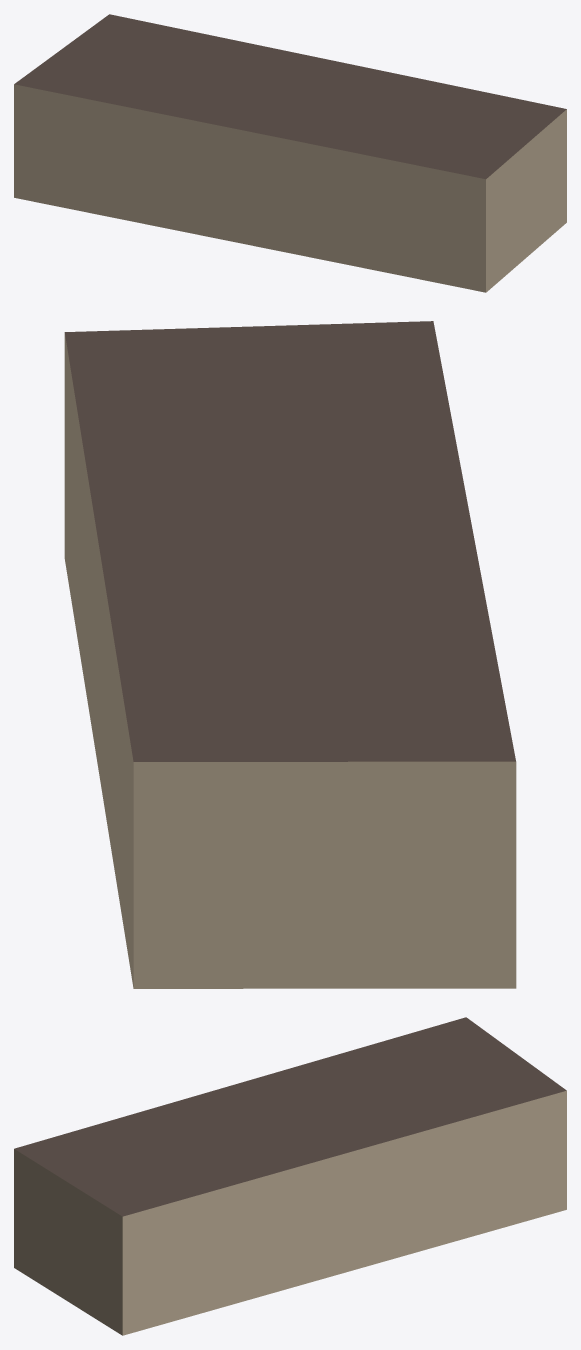
3 renders of one model, top to bottom at view 1: azimuth 30°, elevation 25°; view 2: azimuth 150°, elevation 25°; view 3: azimuth 270°, elevation 25°, orthographic. The views are drawn at different scales.
Visible parts, largest first — view 1: HP-w369237896; view 2: HP-w369237896; view 3: HP-w369237896.
Boxes of the visible parts, x1,y1,x2,y2 form: HP-w369237896: (14,14,566,292); HP-w369237896: (64,321,516,988); HP-w369237896: (14,1017,566,1335).
Size of the model in its own units: 32.32 by 9 by 37.86.
